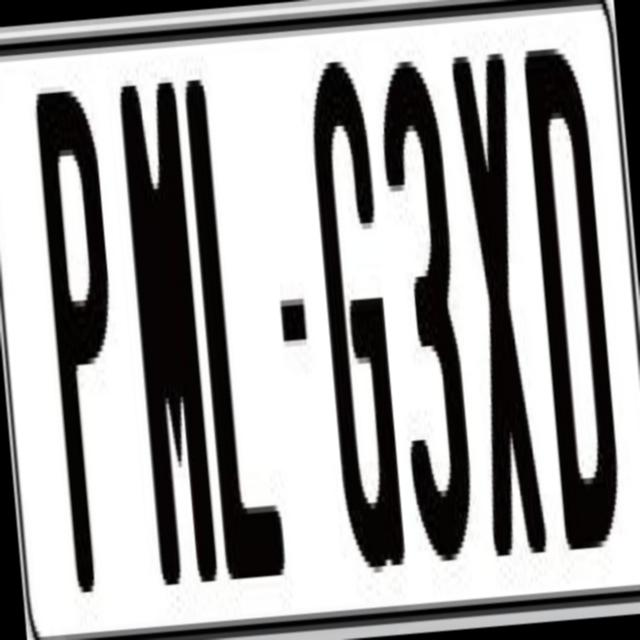3: (374, 59, 484, 592)
D: (522, 28, 634, 568)
G: (299, 42, 408, 575)
L: (180, 70, 294, 598)
M: (116, 76, 220, 597)
P: (29, 71, 132, 598)
X: (448, 35, 554, 556)
